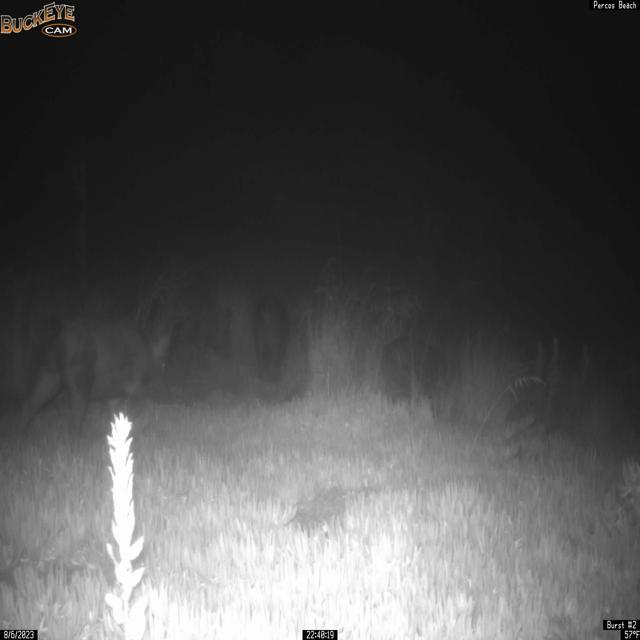pig: (15, 311, 176, 448)
